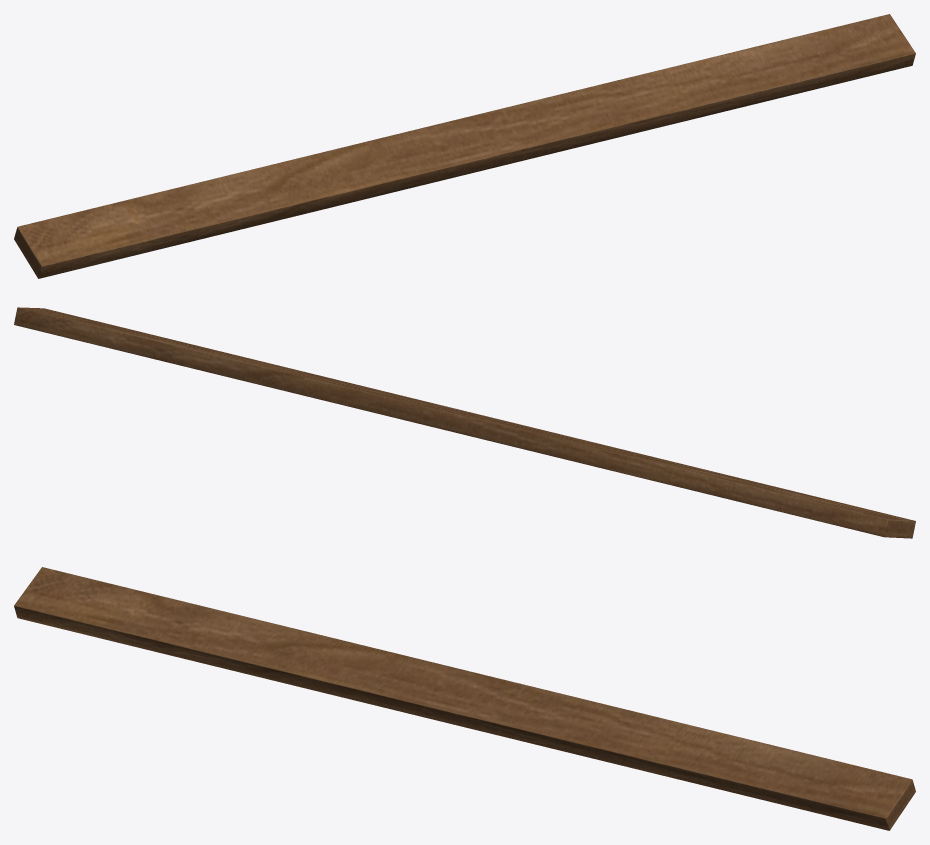
File: plank.003.gltf
3 renders of one model, top to bottom at view 1: azimuth 30°, elevation 25°; view 2: azimuth 150°, elevation 25°; view 3: azimuth 330°, elevation 25°, orthographic.
Visible parts, largest first — view 1: plank.003; view 2: plank.003; view 3: plank.003.
Part boxes in pixels (x1,y1,x2,y2): plank.003: (14,14,915,278); plank.003: (14,307,915,538); plank.003: (14,567,915,830).
Size of the model in its own units: 0.5268 by 0.0202 by 0.0311.
Materials: 1 (1 with a texture image).
